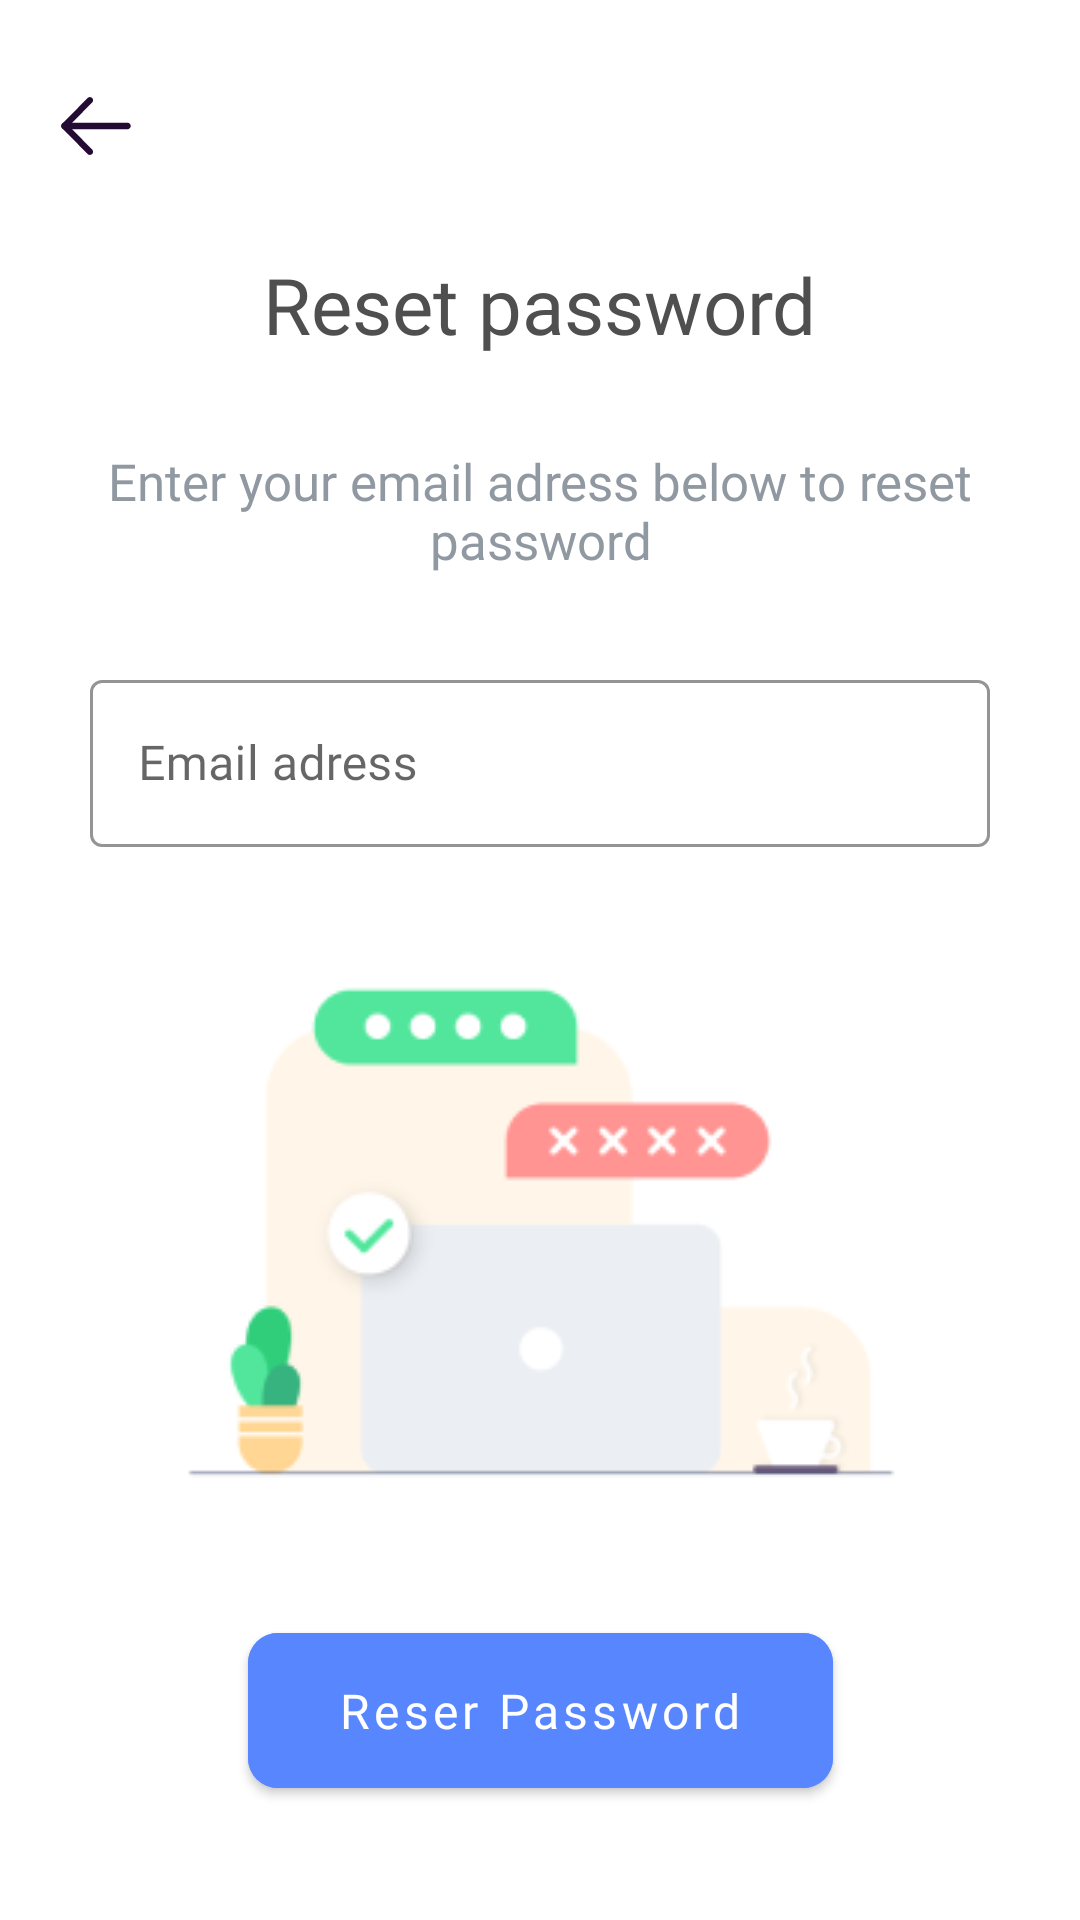

Icon bounding boxes for this 1080*1920 phone screenshot, format (x1, y1, x2, y2):
back: (61, 97, 131, 155)
